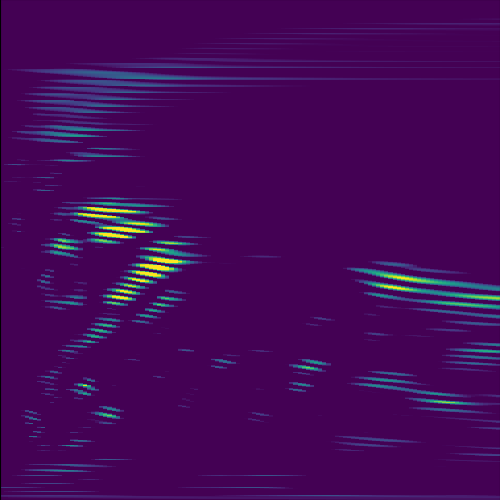semblance: (116, 240, 197, 284), (88, 216, 169, 247), (69, 203, 148, 219)
